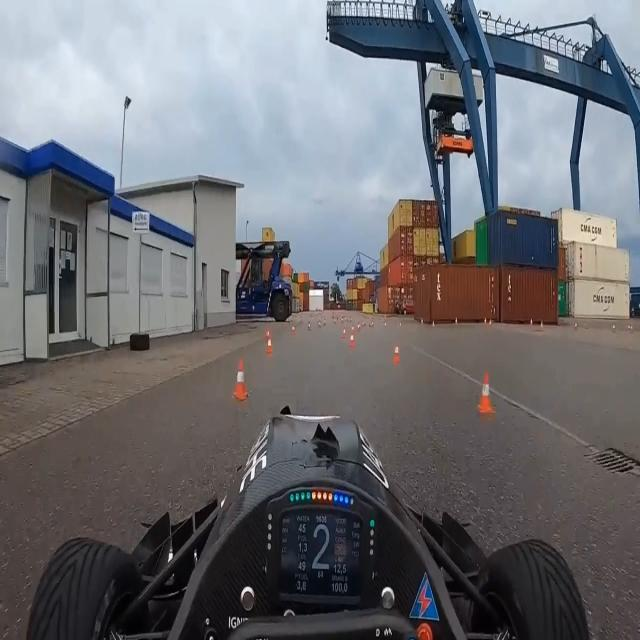Orange cone: (472, 360, 506, 440), (228, 351, 256, 414), (339, 321, 363, 361), (387, 334, 407, 376), (310, 315, 336, 340), (261, 328, 278, 362), (290, 315, 299, 338)
